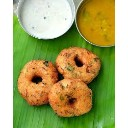vada: (18, 61, 57, 106), (51, 79, 92, 116), (58, 46, 99, 82)
